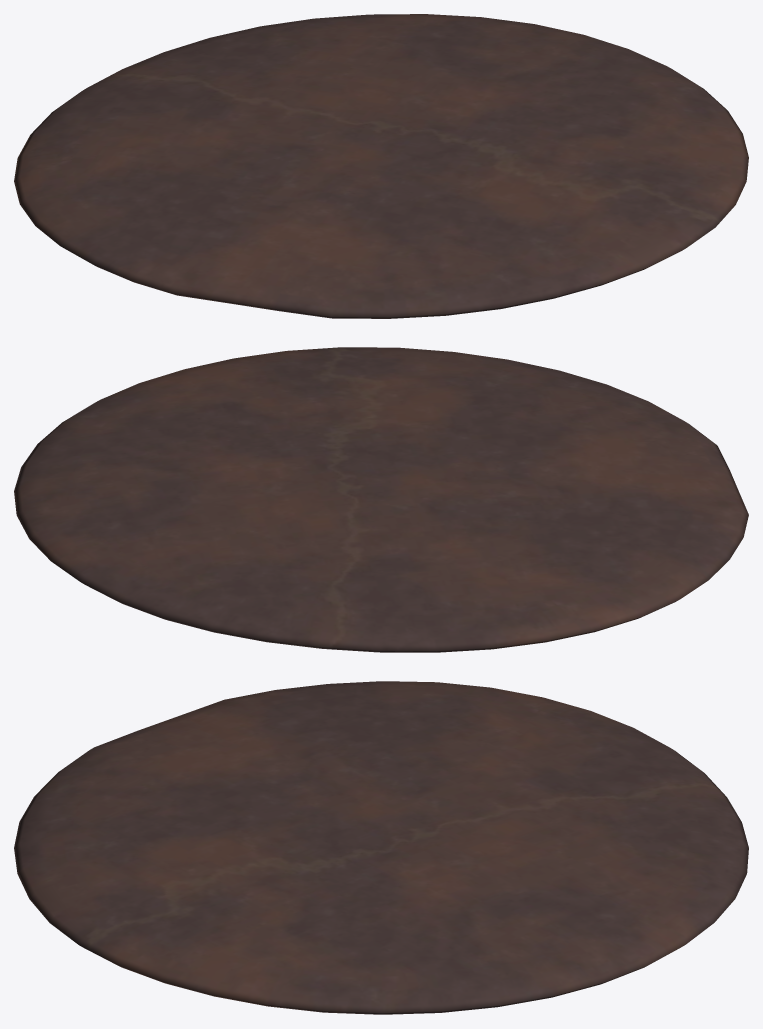
The model's file is master_disc_06.glb.
3 renders of one model, top to bottom at view 1: azimuth 30°, elevation 25°; view 2: azimuth 150°, elevation 25°; view 3: azimuth 270°, elevation 25°, orthographic. The views are drawn at different scales.
Parts seen in each view (by area): view 1: master_disc_06; view 2: master_disc_06; view 3: master_disc_06.
Part boxes in pixels (left/top/right/bottom): master_disc_06: left=14, top=14, right=748, bottom=318; master_disc_06: left=14, top=347, right=748, bottom=652; master_disc_06: left=14, top=681, right=748, bottom=1014.
Size of the model in its own units: 0.0929 by 0.00634 by 0.0875.
1 material, 1 textured.
